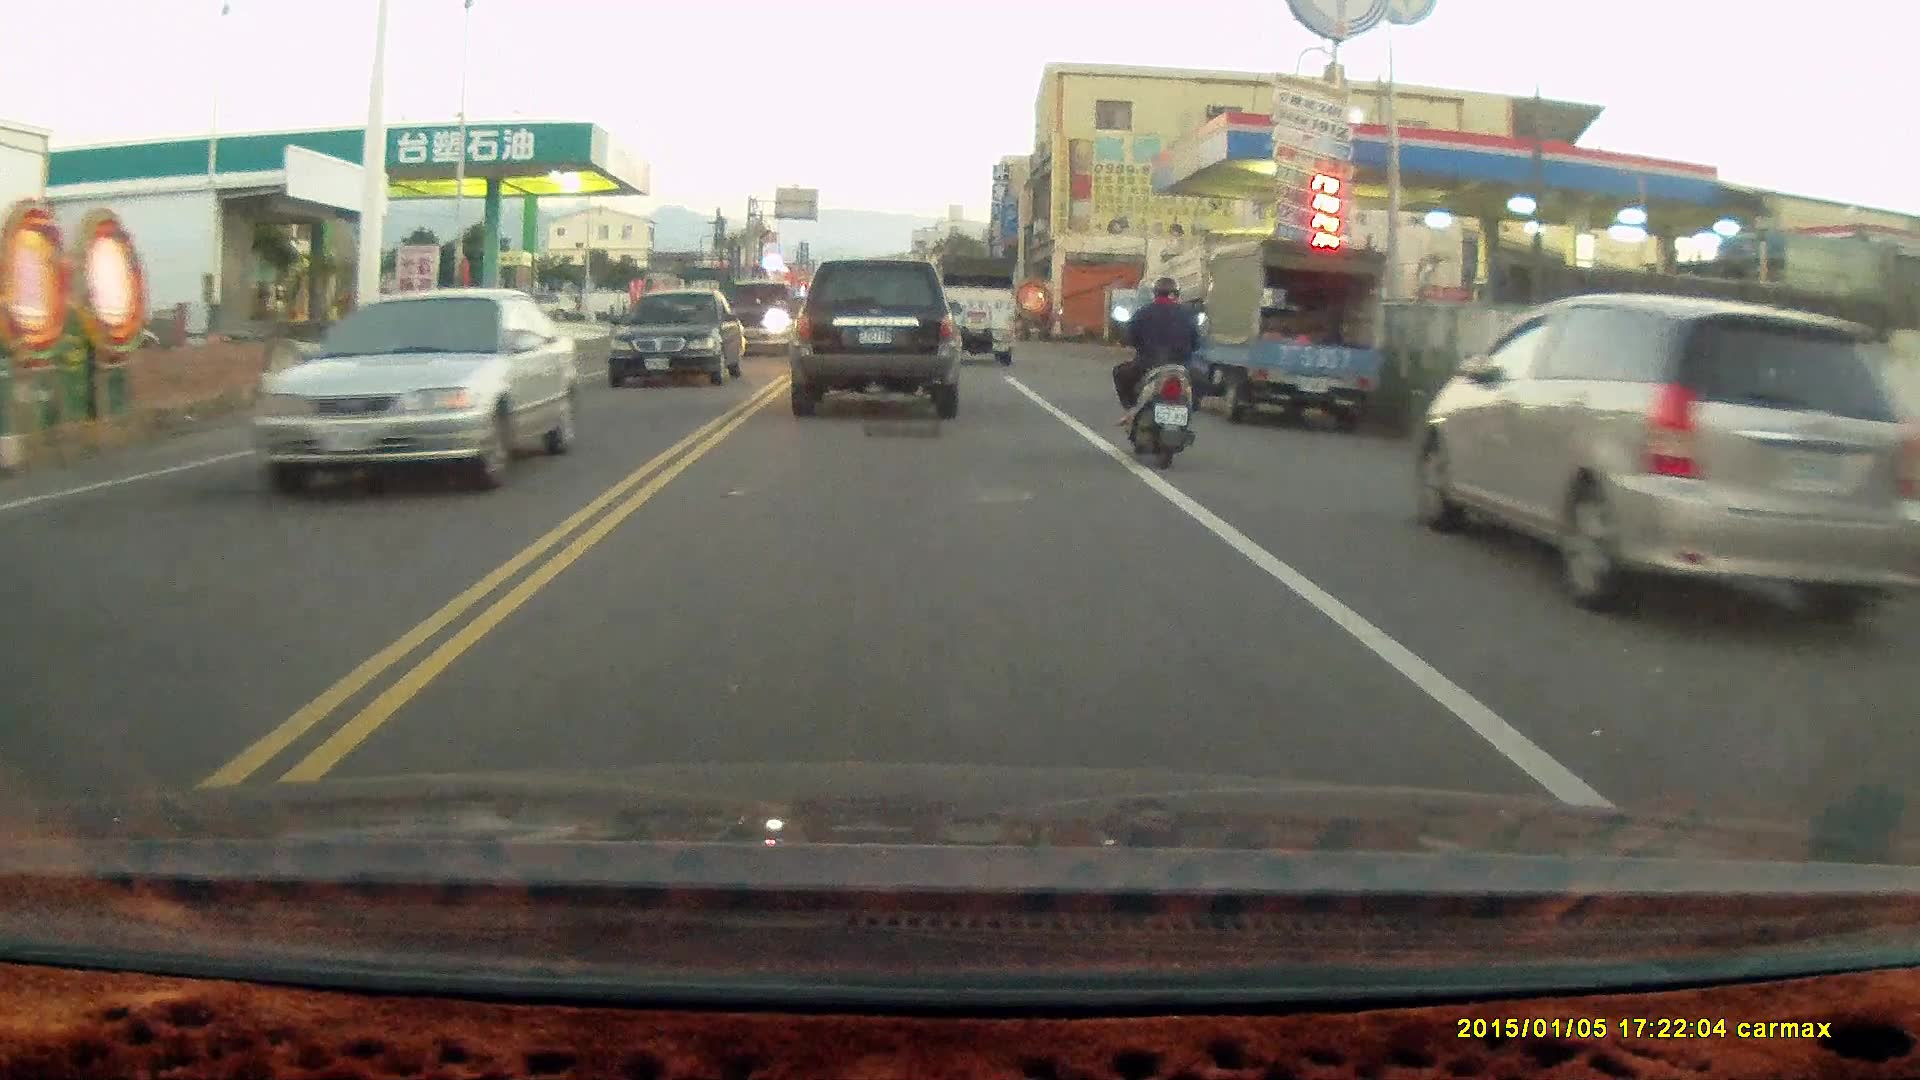rider: (1111, 272, 1213, 469)
vehicle: (1429, 294, 1861, 636), (259, 292, 573, 493), (1182, 243, 1387, 432), (787, 258, 961, 420), (607, 292, 746, 389), (935, 252, 1016, 365)
